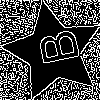B: (28, 27, 80, 69)
